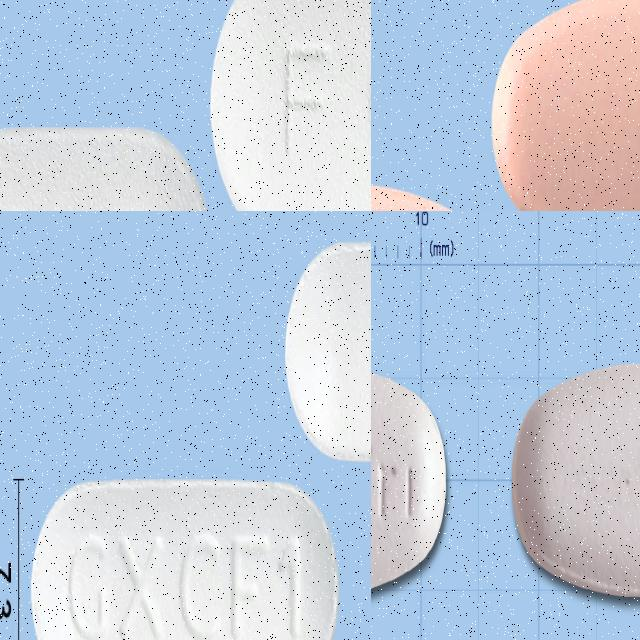Famcivir: (209, 0, 371, 211), (0, 126, 215, 211)
Levoable: (490, 0, 640, 211)
Truvada Tab: (512, 362, 640, 598), (371, 364, 447, 595)
Vancozin Cap: (30, 475, 337, 640), (283, 241, 371, 468)
